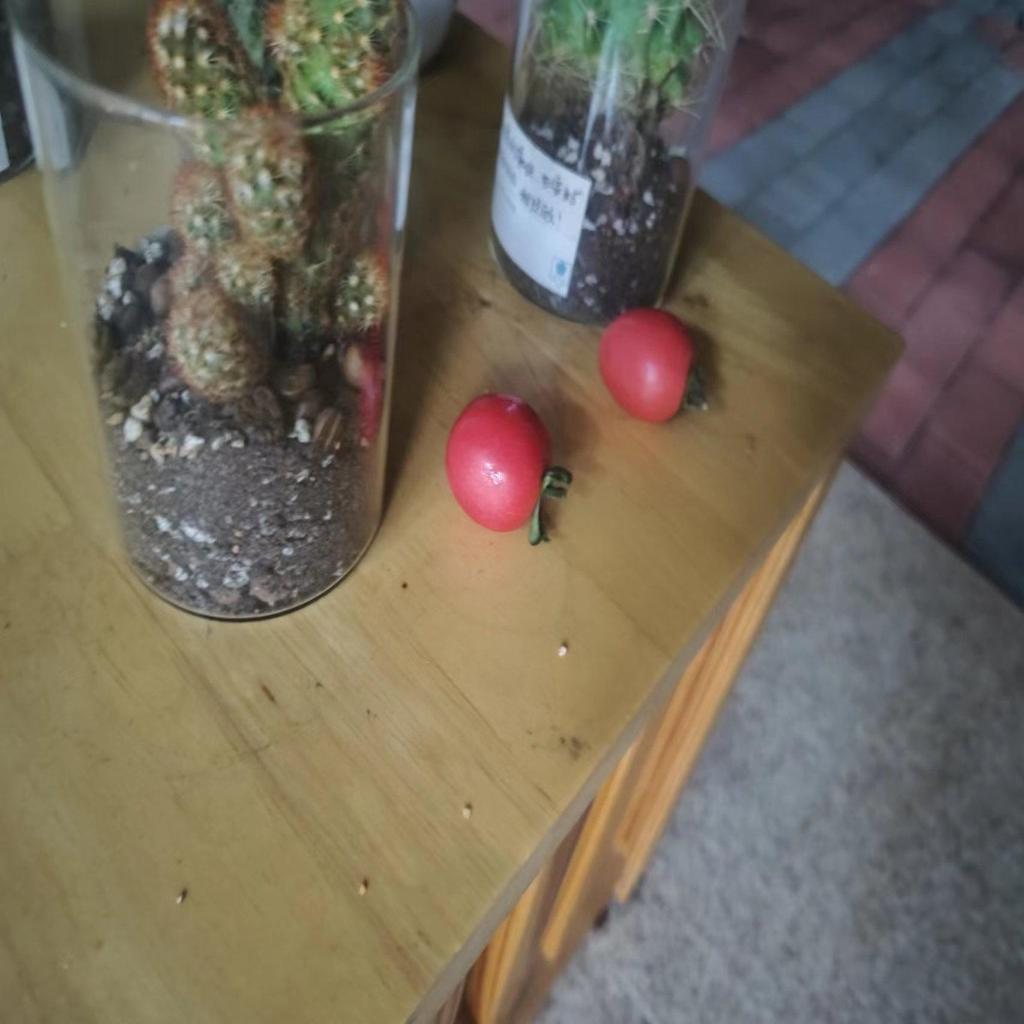tomato: (451, 389, 559, 531), (598, 294, 697, 427)
